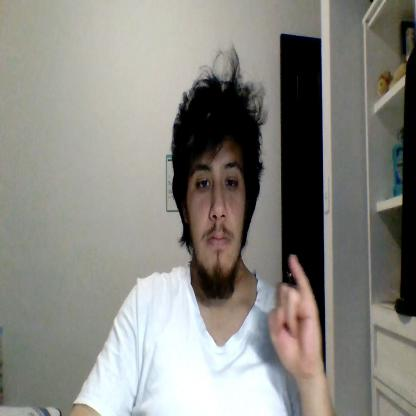I: (268, 255, 322, 371)
